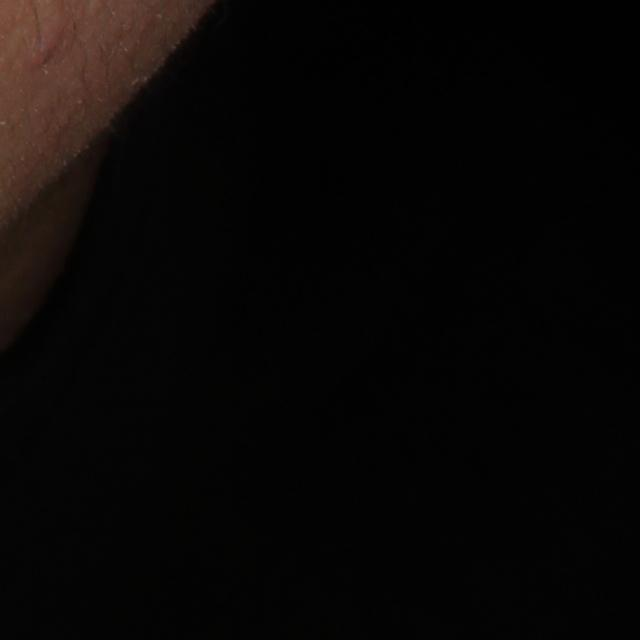papule: (27, 14, 69, 72)
